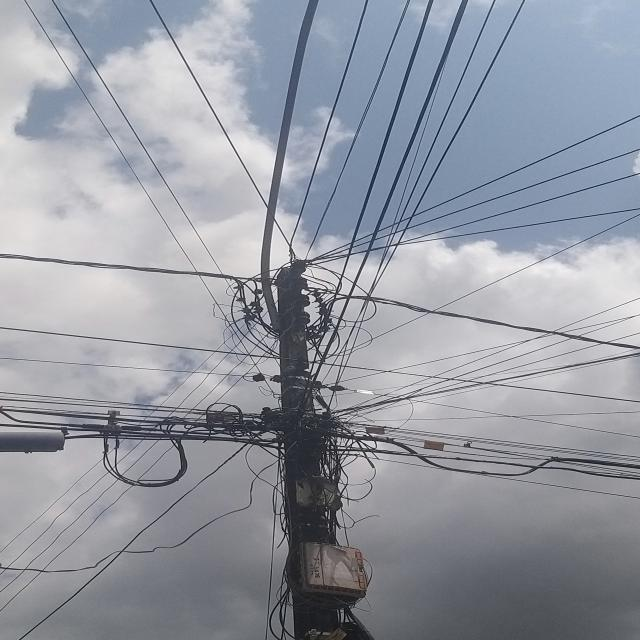Plaqueta: (208, 413, 225, 420)
